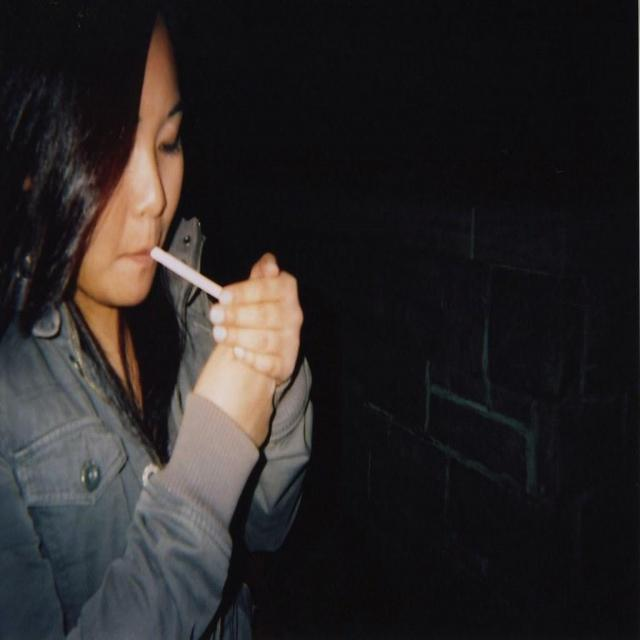Сигарета: (151, 246, 230, 309)
Тело: (1, 9, 316, 640)
